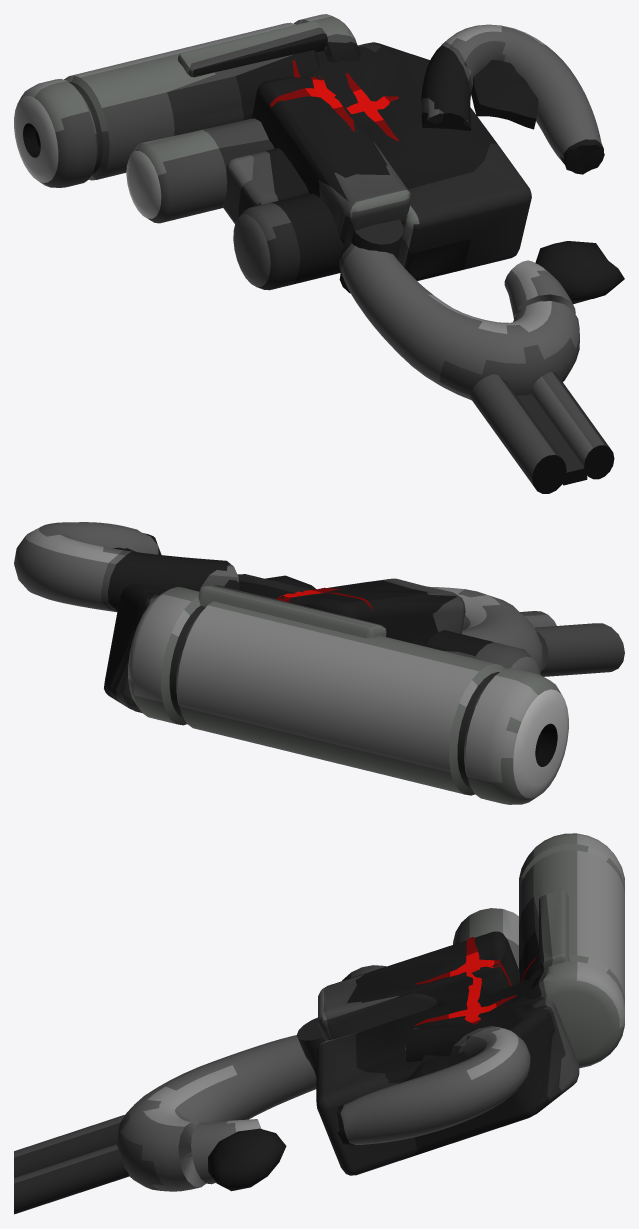
File: ball_mast_dmg_gun.glb
3 renders of one model, top to bottom at view 1: azimuth 30°, elevation 25°; view 2: azimuth 150°, elevation 25°; view 3: azimuth 270°, elevation 25°, orthographic. The views are drawn at different scales.
Parts seen in each view (by area): view 1: barrel.001, receiver.001, yoke.001, grip.001, fin_arm.001, barrel2.001, stub.001, rod0.001, strip.001, stub_block.001, rod1.001, lump.001 (+4 smaller); view 2: barrel.001, fin_arm.001, grip.001, receiver.001, rod0.001, yoke.001, strip.001, stub.001, cracks_gun.001, rod1.001; view 3: receiver.001, barrel.001, yoke.001, fin_arm.001, grip.001, rod1.001, lump.001, rod0.001, strip.001, cracks_gun.001, barrel2.001, pin.001 (+1 smaller).
Part boxes in pixels (x1,y1,x2,y2): barrel.001: [14, 14, 360, 187]; receiver.001: [312, 42, 531, 280]; yoke.001: [339, 242, 579, 400]; grip.001: [251, 76, 411, 245]; fin_arm.001: [421, 24, 604, 174]; barrel2.001: [126, 118, 274, 223]; stub.001: [233, 193, 344, 290]; rod0.001: [470, 374, 566, 493]; strip.001: [178, 21, 327, 77]; stub_block.001: [222, 148, 308, 223]; rod1.001: [531, 372, 614, 479]; lump.001: [535, 241, 624, 304]; barrel.001: [128, 587, 568, 804]; fin_arm.001: [14, 522, 239, 612]; grip.001: [280, 578, 465, 643]; receiver.001: [104, 574, 309, 712]; rod0.001: [534, 623, 624, 676]; yoke.001: [429, 586, 542, 672]; strip.001: [198, 585, 386, 638]; stub.001: [426, 630, 540, 674]; cracks_gun.001: [277, 587, 373, 610]; rod1.001: [520, 611, 556, 627]; receiver.001: [316, 979, 579, 1175]; barrel.001: [519, 833, 624, 1068]; yoke.001: [116, 1035, 316, 1191]; fin_arm.001: [335, 1024, 530, 1145]; grip.001: [318, 931, 520, 1040]; rod1.001: [14, 1144, 129, 1214]; lump.001: [208, 1128, 286, 1191]; rod0.001: [14, 1115, 124, 1177]; strip.001: [539, 890, 570, 971]; cracks_gun.001: [415, 937, 536, 1025]; barrel2.001: [453, 908, 518, 968]; pin.001: [296, 1017, 325, 1076].
Bounding box in the file's own units: 21.9 × 11.47 × 24.64.
